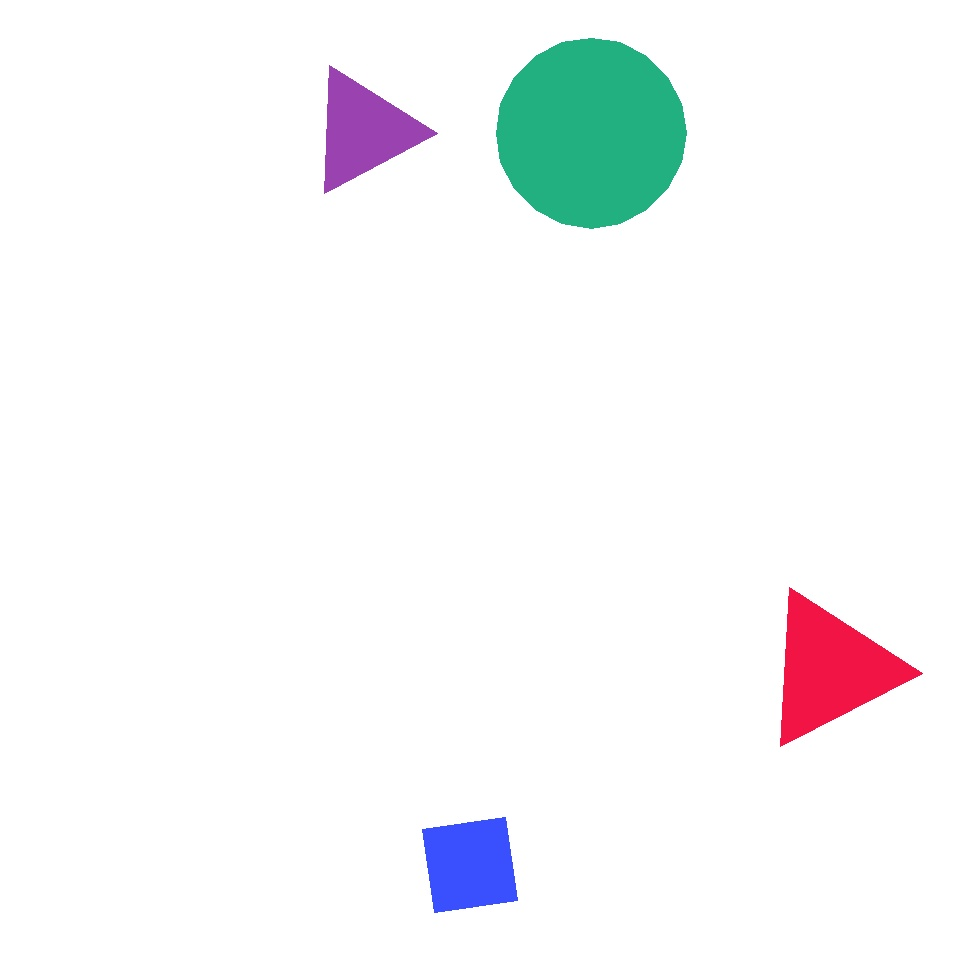circle: (760, 590, 902, 748), (308, 67, 420, 195)
square: (492, 91, 802, 400), (422, 818, 518, 912)
triangle: (123, 80, 318, 274), (496, 38, 686, 228)
